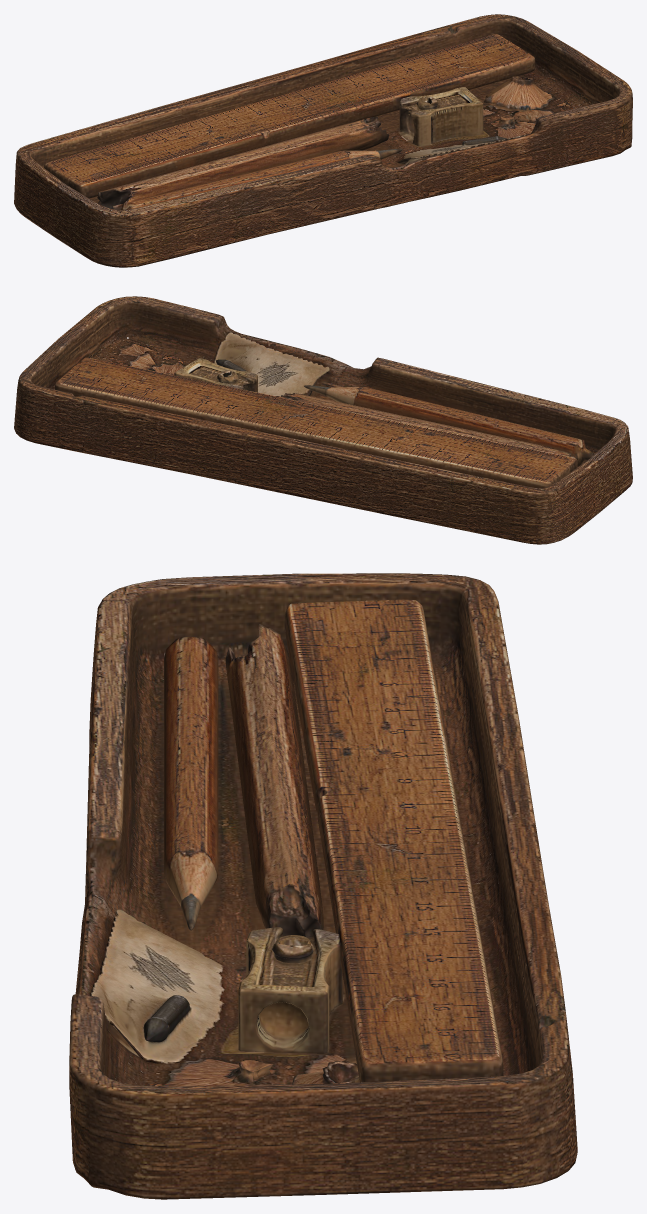
The model's file is drafting-tray.glb.
3 views of the same model, one above another, from view 1: azimuth 30°, elevation 25°; view 2: azimuth 150°, elevation 25°; view 3: azimuth 270°, elevation 25° (orthographic). The views are drawn at different scales.
Parts seen in each view (by area): view 1: d9f38e88_8fa9_406f_8f94_ced1e5507fe1; view 2: d9f38e88_8fa9_406f_8f94_ced1e5507fe1; view 3: d9f38e88_8fa9_406f_8f94_ced1e5507fe1.
Part boxes in pixels (x1,y1,x2,y2): d9f38e88_8fa9_406f_8f94_ced1e5507fe1: (14, 14, 632, 267); d9f38e88_8fa9_406f_8f94_ced1e5507fe1: (14, 296, 632, 544); d9f38e88_8fa9_406f_8f94_ced1e5507fe1: (69, 573, 577, 1199).
Size of the model in its own units: 0.9995 by 0.0962 by 0.4067.
1 material, 1 textured.
